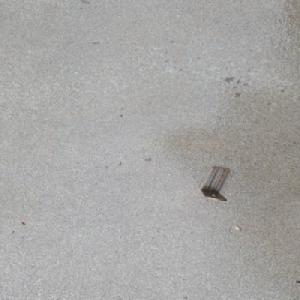MetalPart: (199, 166, 230, 201)
